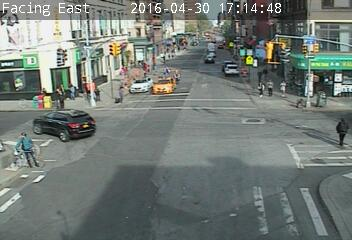neg: (245, 156, 269, 188), (1, 45, 20, 73), (236, 111, 255, 136), (105, 110, 123, 134), (321, 11, 337, 32), (139, 126, 155, 146), (179, 158, 194, 178), (288, 100, 302, 120), (112, 180, 125, 198), (203, 54, 216, 71), (76, 114, 89, 131), (32, 7, 45, 24), (189, 88, 201, 104), (185, 27, 196, 43), (314, 86, 325, 102), (149, 27, 161, 41), (181, 130, 192, 145), (125, 4, 136, 19), (157, 63, 168, 77), (64, 154, 75, 168), (229, 5, 240, 19), (172, 70, 181, 82)
pos: (9, 130, 39, 170), (325, 112, 351, 150), (113, 81, 130, 104), (52, 85, 68, 106), (88, 83, 104, 103), (277, 78, 292, 98), (263, 78, 278, 97), (253, 77, 267, 97), (36, 83, 49, 101), (261, 64, 272, 78), (254, 68, 264, 82)
